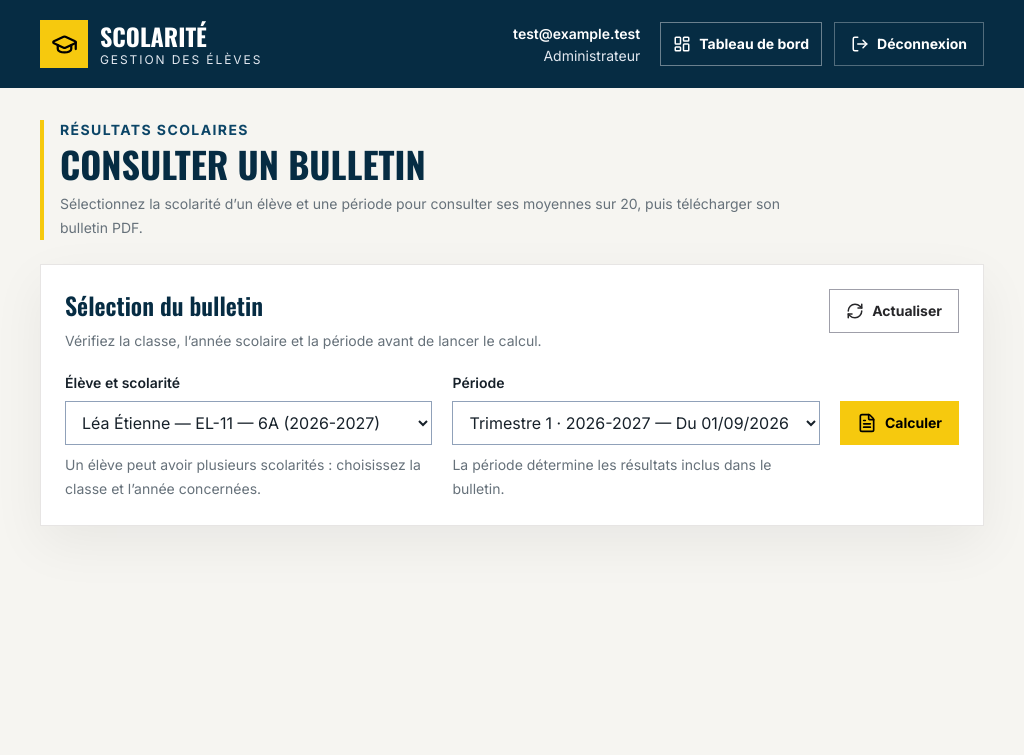
Test: bulletins › retire le bulletin courant lors d’un changement de Élève et scolarité
Click the button "Calculer" at (899, 423), box x1=840 y1=401 x2=959 y2=445
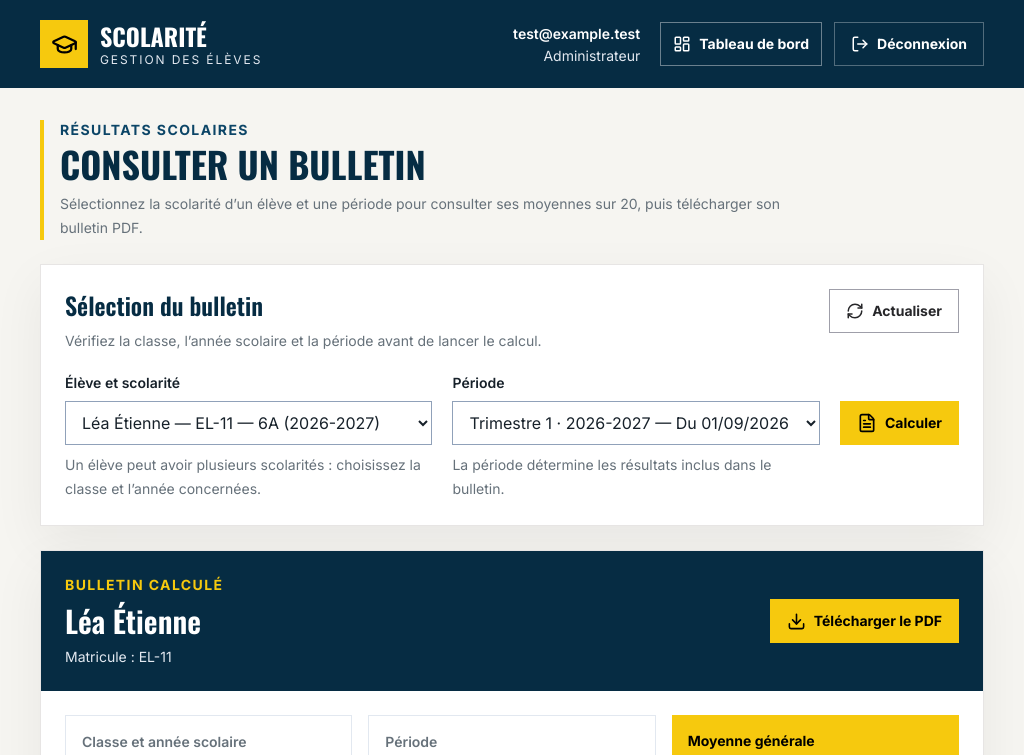
Expected: the heading "Léa Étienne" is shown, x1=65 y1=603 x2=224 y2=639
Select "Noé Martin — EL-12 — 6B (2026-2027)" in the dropdown labelled "Élève et scolarité" at (249, 423), box x1=65 y1=401 x2=432 y2=445
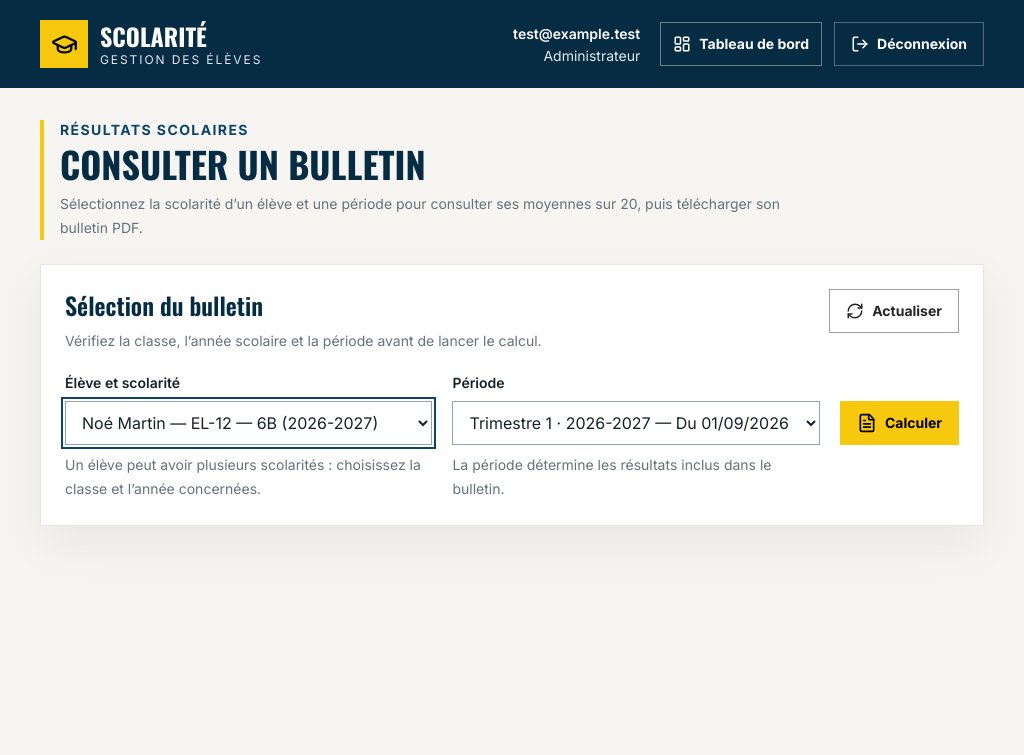
Expected: the heading "Léa Étienne" is gone
Expected: the button "Télécharger le PDF" is gone
